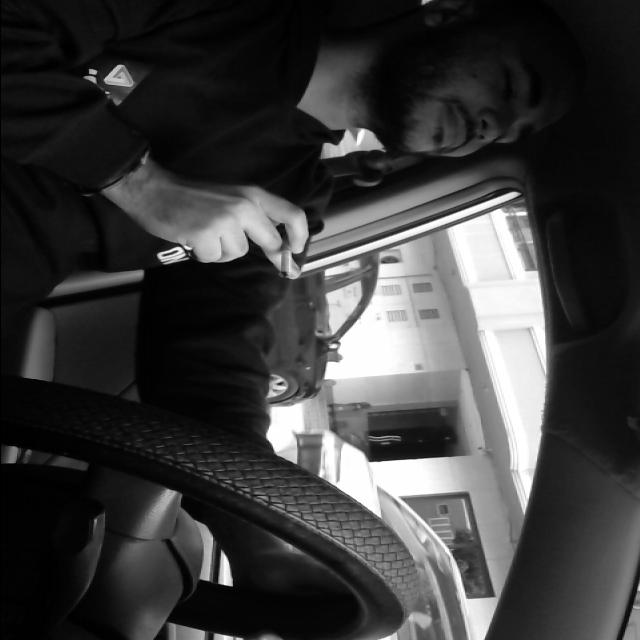smoking: (272, 229, 306, 281)
